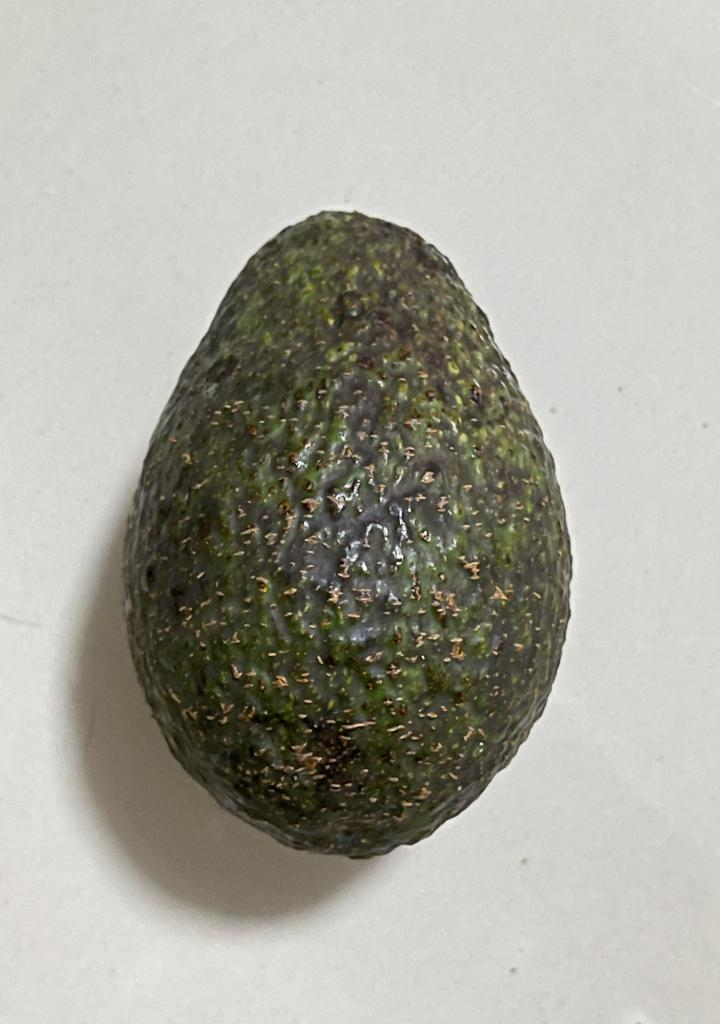Level1: (112, 190, 584, 872)
